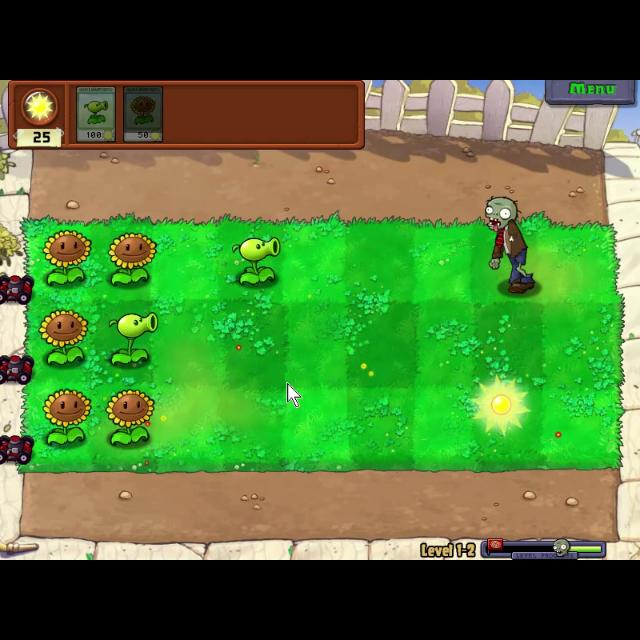Garden: (19, 216, 623, 474)
Menu Button: (542, 80, 638, 106)
Mower: (0, 434, 38, 471), (0, 272, 34, 306), (1, 352, 36, 384)
Peashooter: (74, 84, 118, 144)
Peashooter Seed: (104, 310, 160, 368), (230, 234, 288, 290)
Seed Panel: (4, 80, 370, 152)
Sun: (472, 371, 536, 439)
Sunflower: (122, 82, 162, 146)
Sunflower Seed: (35, 304, 91, 370), (101, 386, 157, 448), (37, 384, 91, 448), (105, 224, 157, 286), (41, 228, 94, 286)
Zombie: (482, 193, 538, 294)
